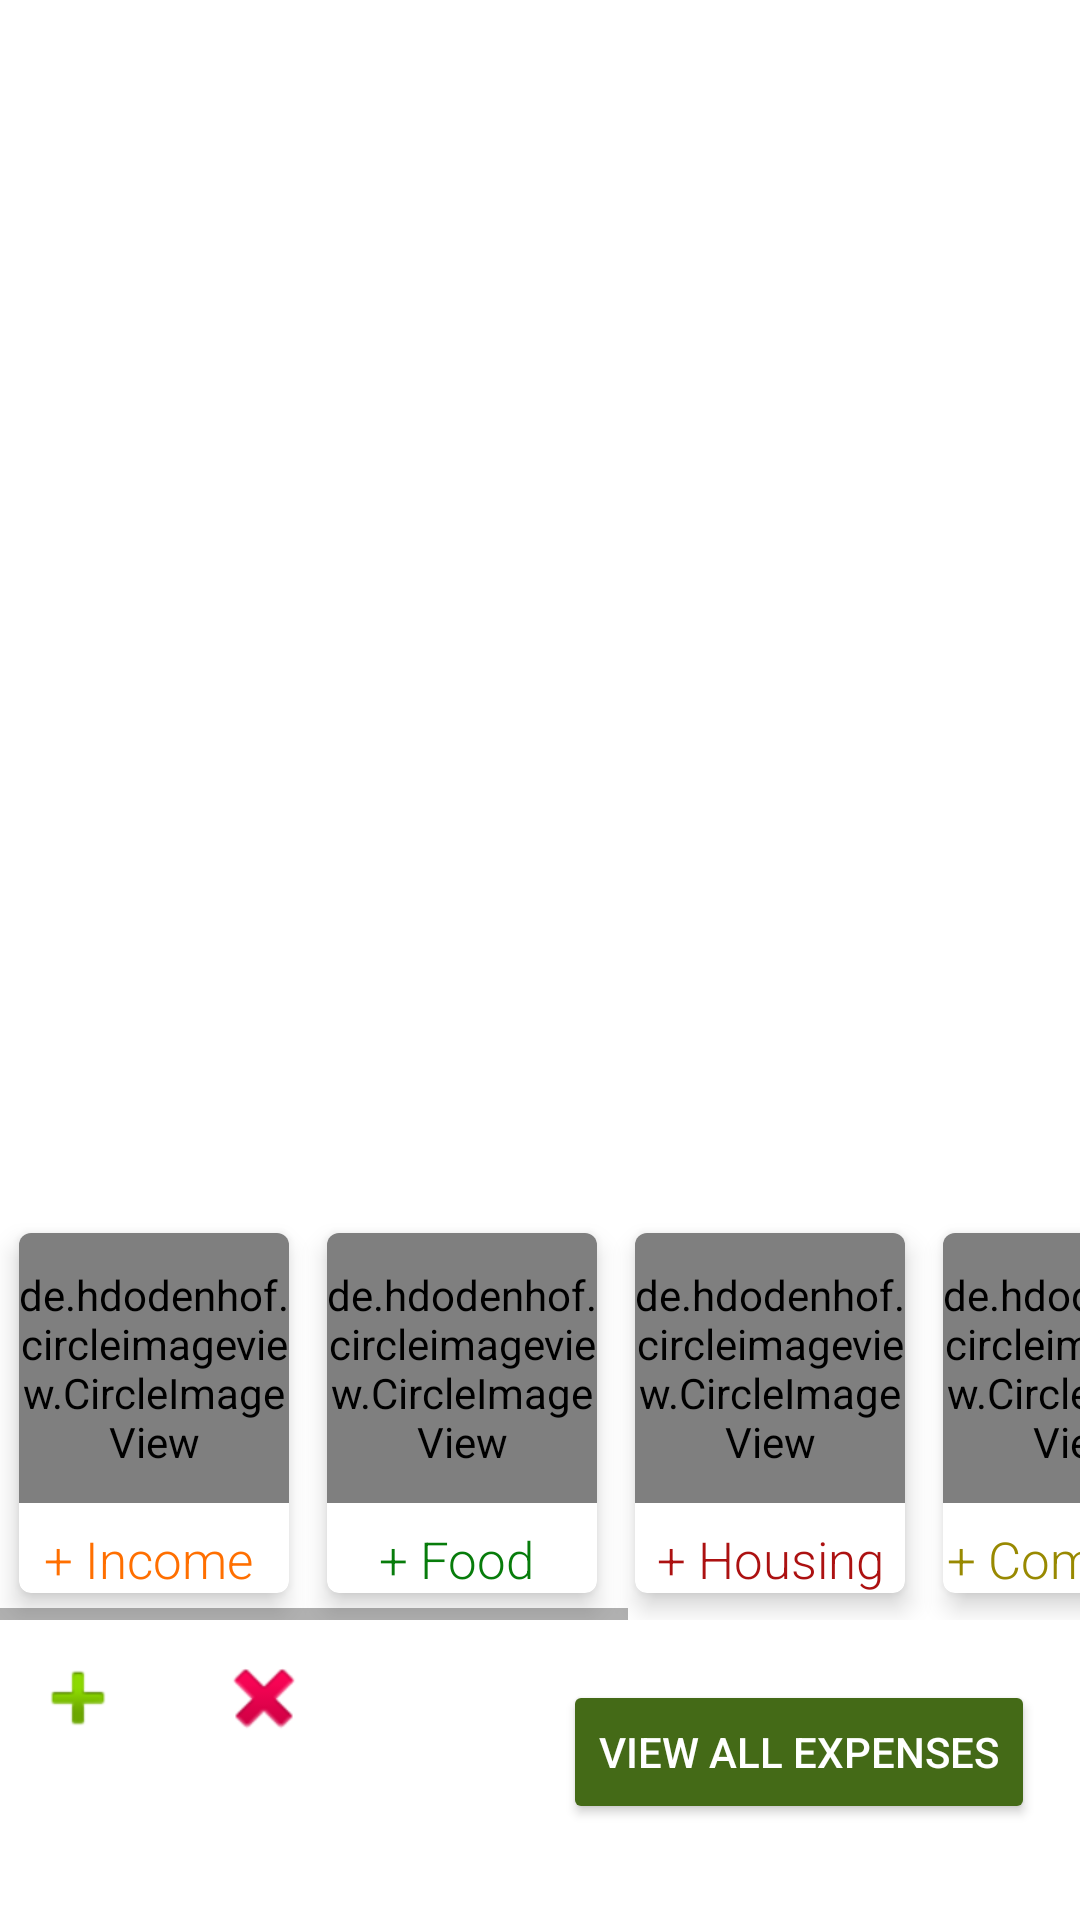

Icons on this 1080 × 1920 Android screen, each with its box as {"left": x1, "top": y1, "right": x2, "bottom": y2}:
add: {"left": 51, "top": 1671, "right": 105, "bottom": 1725}
delete: {"left": 233, "top": 1669, "right": 295, "bottom": 1728}
